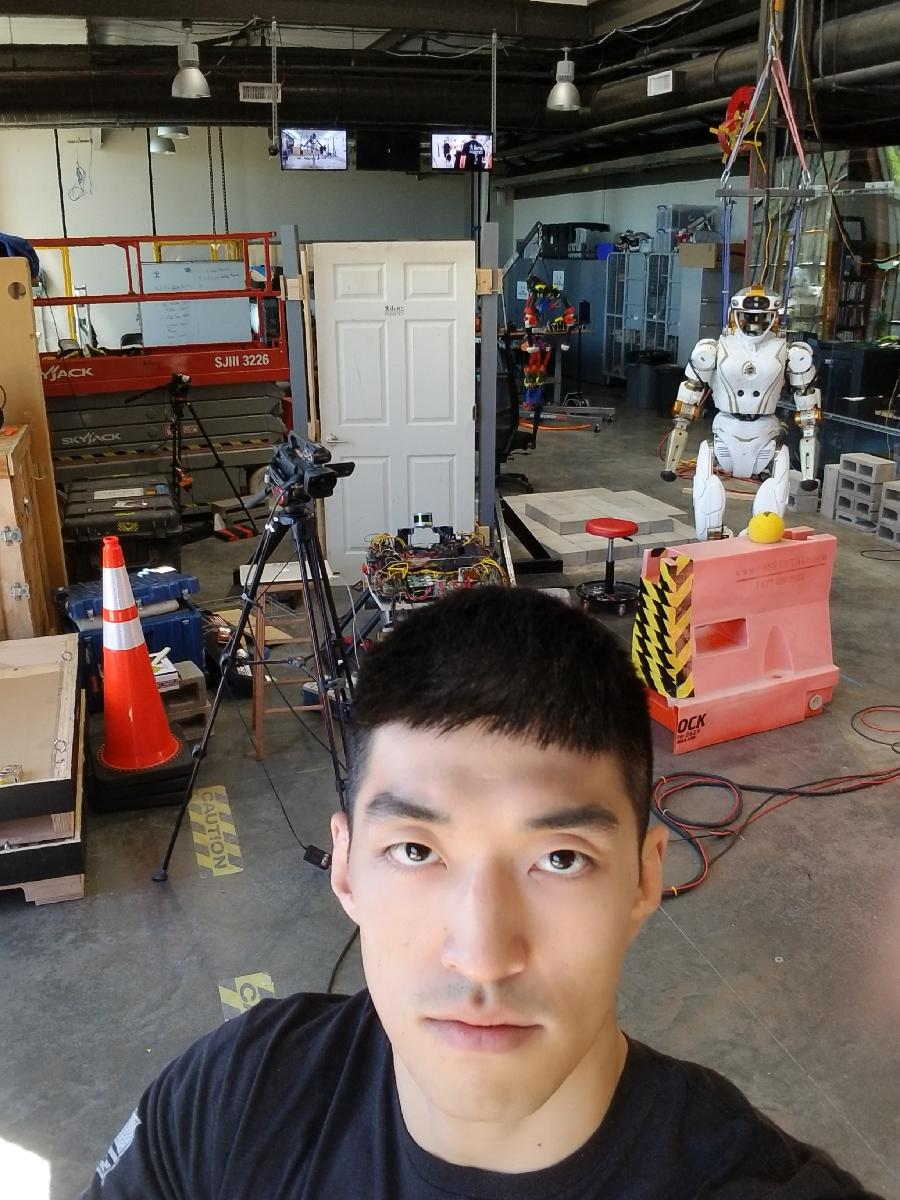door: (308, 239, 480, 599)
doorHandle: (326, 431, 356, 449)
